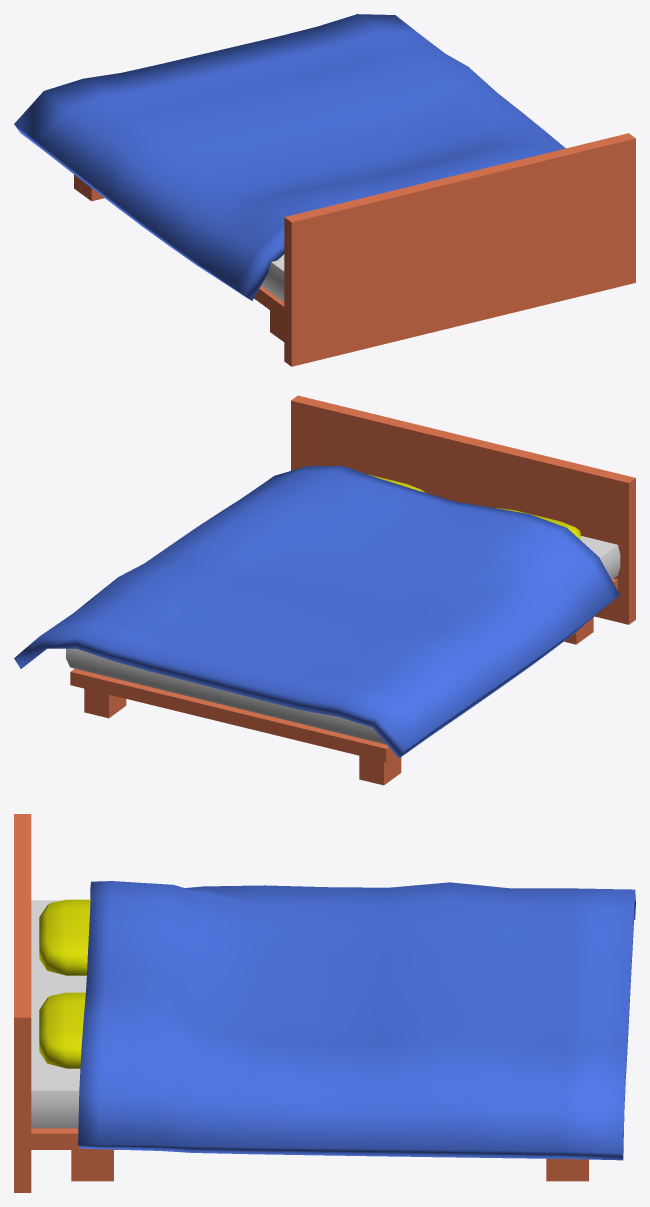
File: Bed.fbx
3 renders of one model, top to bottom at view 1: azimuth 30°, elevation 25°; view 2: azimuth 150°, elevation 25°; view 3: azimuth 270°, elevation 25°, orthographic. The views are drawn at different scales.
Parts seen in each view (by area): view 1: Куб.008, Bed; view 2: Куб.008, Bed; view 3: Куб.008, Bed.
Boxes of the visible parts, <box> form: Куб.008: <box>14,14,565,300</box>; Bed: <box>74,133,635,366</box>; Куб.008: <box>14,465,619,758</box>; Bed: <box>66,395,635,785</box>; Куб.008: <box>78,881,635,1160</box>; Bed: <box>14,814,588,1192</box>.
Bounding box in the file's own units: 251 × 84.9 × 273.
